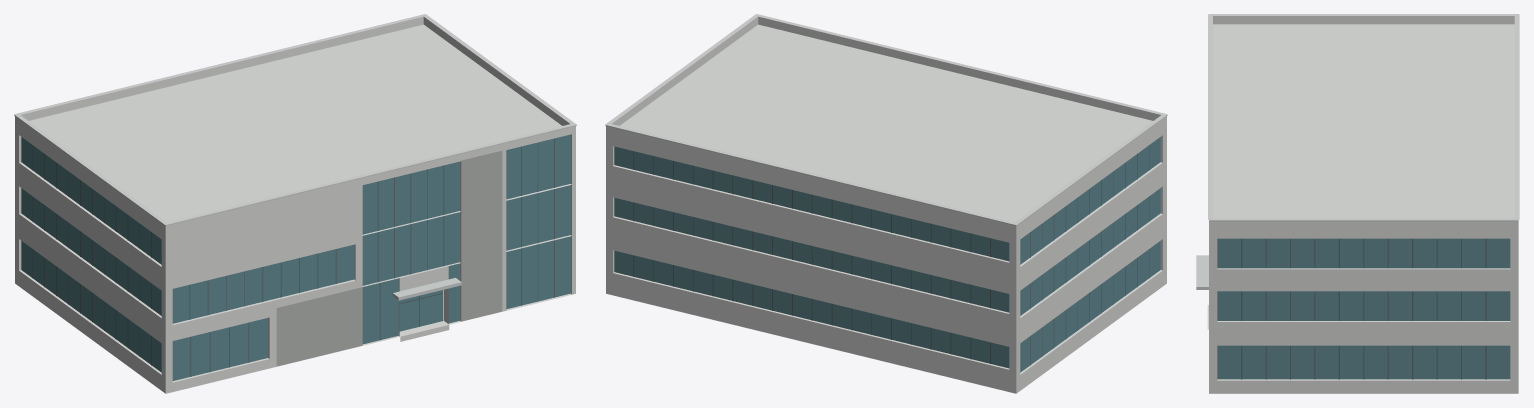
3 renders of one model, left to right at view 1: azimuth 30°, elevation 25°; view 2: azimuth 150°, elevation 25°; view 3: azimuth 270°, elevation 25°, orthographic. The views are drawn at different scales.
Visible parts, largest first — view 1: semiconductor__roof, semiconductor__glass, semiconductor__wall, semiconductor__wall2, semiconductor__parapet, semiconductor__trim, semiconductor__frame, semiconductor__canopy, semiconductor__entranceThreshold; view 2: semiconductor__wall, semiconductor__roof, semiconductor__glass, semiconductor__parapet, semiconductor__trim, semiconductor__frame; view 3: semiconductor__roof, semiconductor__glass, semiconductor__wall, semiconductor__parapet, semiconductor__trim, semiconductor__frame, semiconductor__canopy.
Part boxes in pixels (x1,y1,x2,y2): semiconductor__roof: (16, 24, 575, 393); semiconductor__glass: (21, 134, 570, 380); semiconductor__wall: (15, 122, 575, 393); semiconductor__wall2: (276, 150, 502, 366); semiconductor__parapet: (15, 16, 575, 232); semiconductor__trim: (14, 14, 576, 226); semiconductor__frame: (32, 138, 554, 376); semiconductor__canopy: (392, 277, 461, 300); semiconductor__entranceThreshold: (399, 321, 449, 341); semiconductor__wall: (606, 122, 1166, 393); semiconductor__roof: (606, 24, 1165, 393); semiconductor__glass: (614, 137, 1160, 372); semiconductor__parapet: (606, 16, 1166, 232); semiconductor__trim: (605, 14, 1167, 226); semiconductor__frame: (633, 145, 1149, 365); semiconductor__roof: (1209, 24, 1518, 393); semiconductor__glass: (1217, 238, 1510, 379); semiconductor__wall: (1209, 228, 1518, 393); semiconductor__parapet: (1209, 16, 1518, 228); semiconductor__trim: (1208, 14, 1519, 221); semiconductor__frame: (1241, 238, 1486, 379); semiconductor__canopy: (1196, 255, 1208, 289).
Size of the model in its own units: 35.32 by 14.25 by 23.36.
